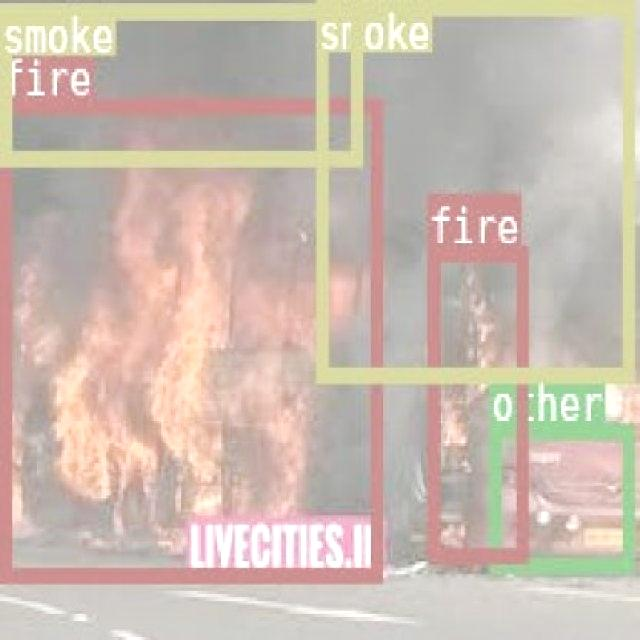fire: (0, 94, 378, 577), (427, 244, 525, 561)
smoke: (316, 0, 632, 377), (0, 2, 362, 162)
